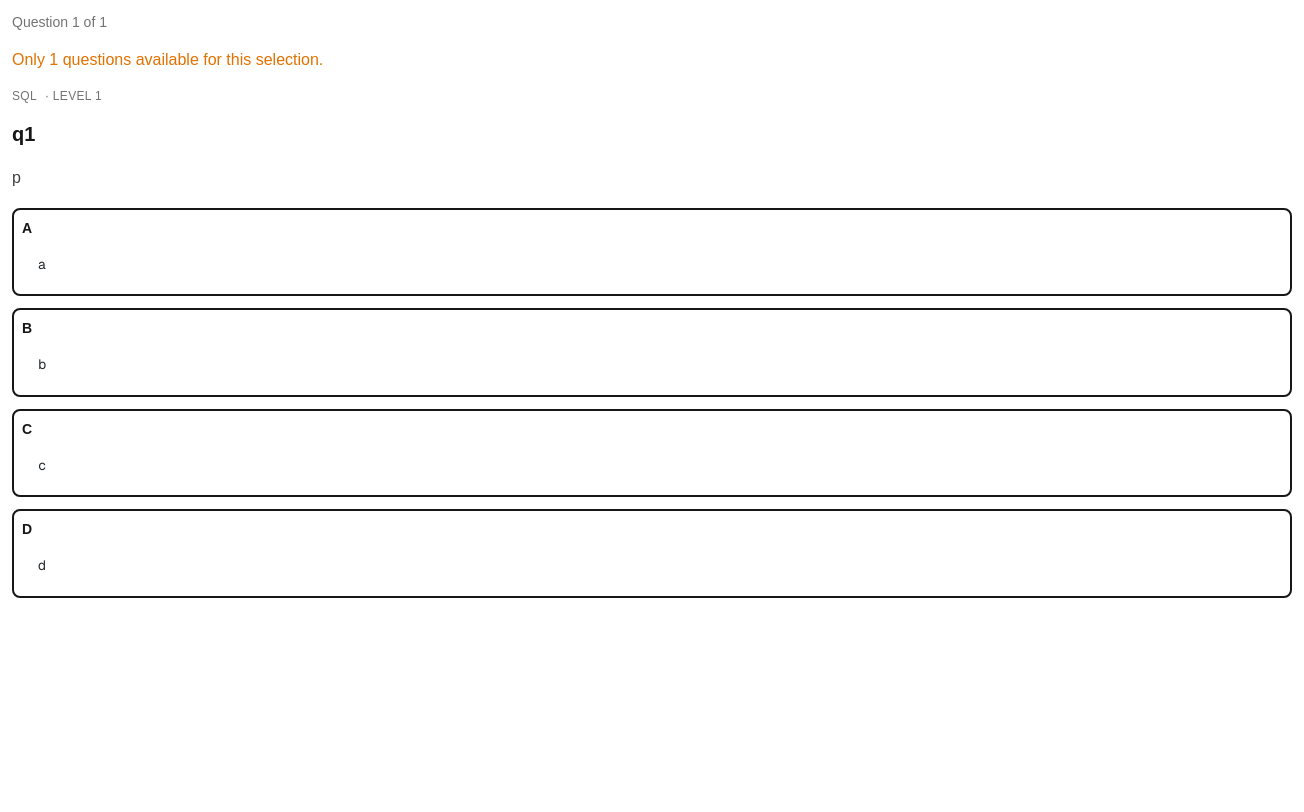
Test: records the session and announces a personal best
Expected: the heading "q1" is shown, [12,123,35,145]
Click the button named "Option" at (652,252), box [12,208,1292,296]
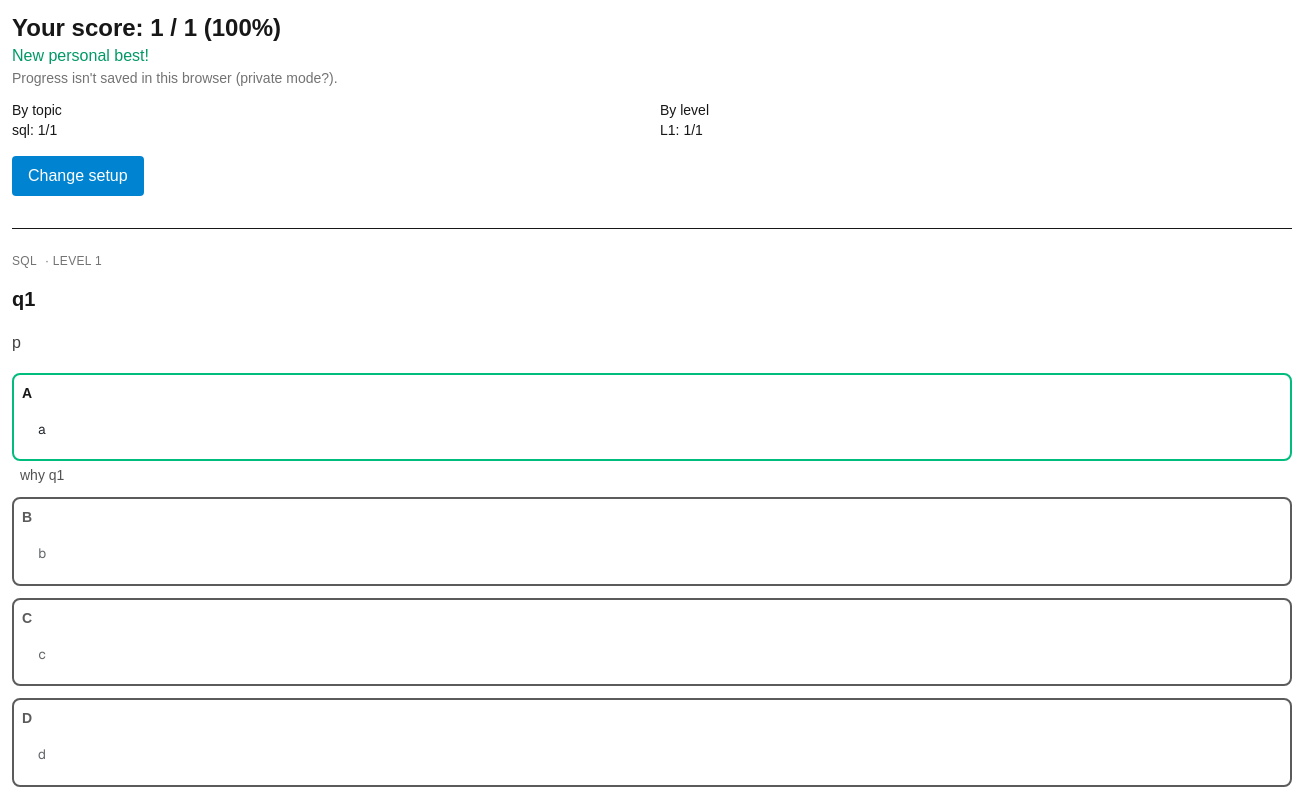
Now the text "New personal best!" is shown, box [12,47,149,64]
